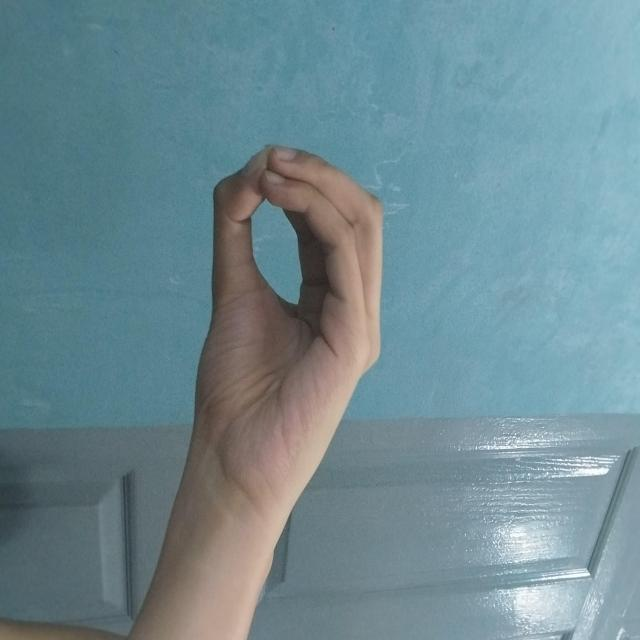O: (144, 119, 439, 533)
